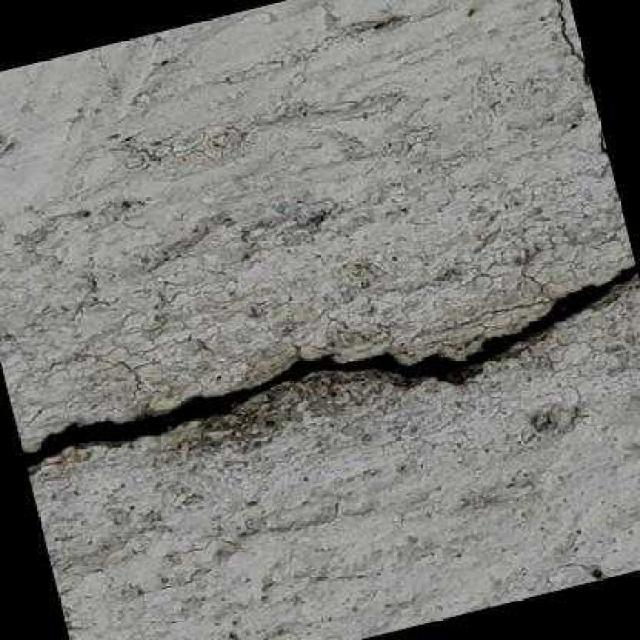D00: (22, 261, 638, 466)
